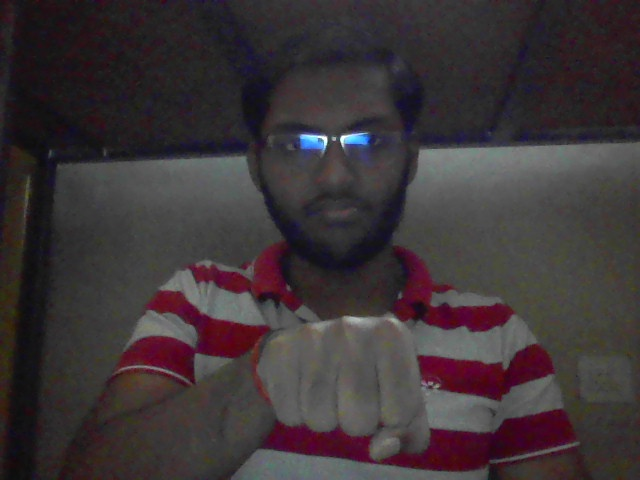Not_Hungry: (240, 301, 478, 466)
